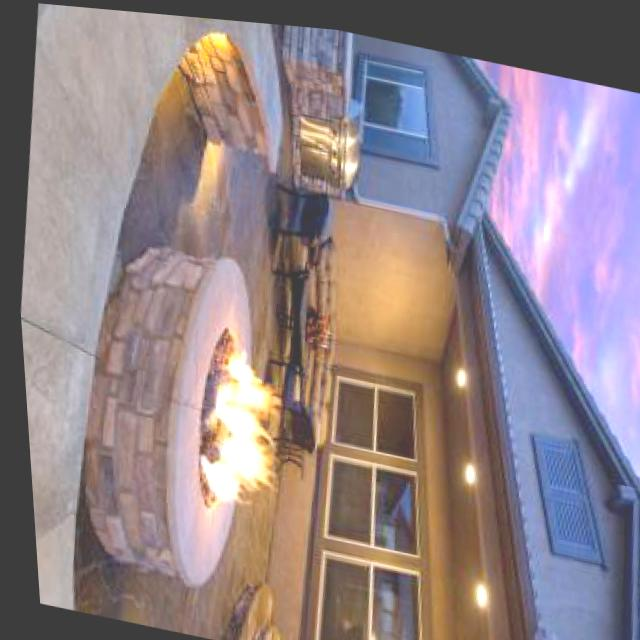Fire: (169, 317, 294, 513)
